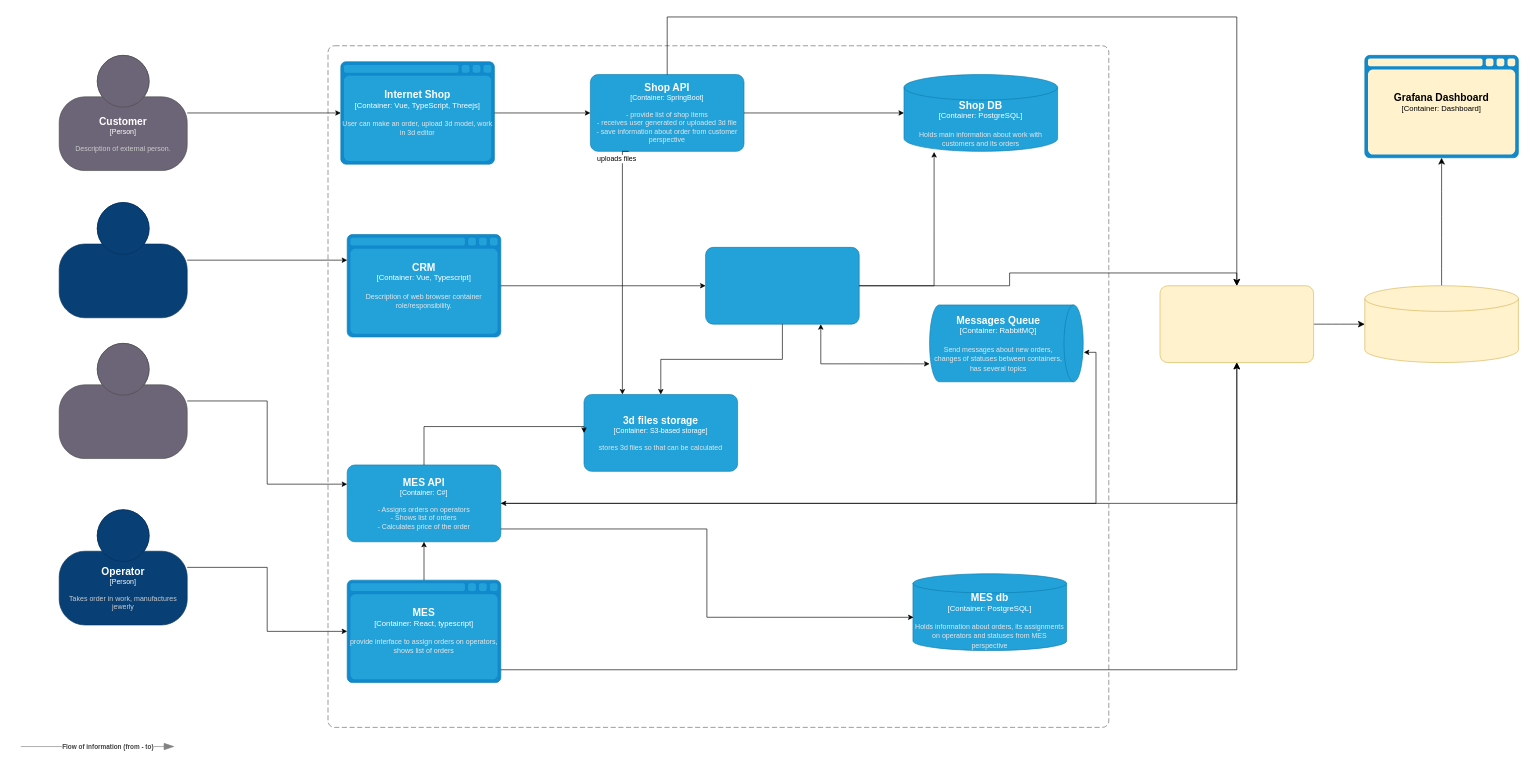
Some shapes in this 1530 by 768 pixel diagram are drawn without their labels. The shapes that lost their labels are listed below. From the top down, each one's box as (x1, y1, x2, y2) in pixels, then its label:
(59, 202, 187, 318): Seller [Person] Operates with order, confirms manufacturing for the user
(705, 247, 859, 324): CRM API [Container: SpringBoot] Description of container role/responsibility.
(1159, 285, 1314, 363): Otel Collector [Container: Tracing]
(1364, 285, 1518, 363): Trace Storage [Container: Elastic Search]
(59, 343, 187, 459): API user [Person] Description of external person.
(327, 45, 1109, 727): Jewerly Store System [Software System]
